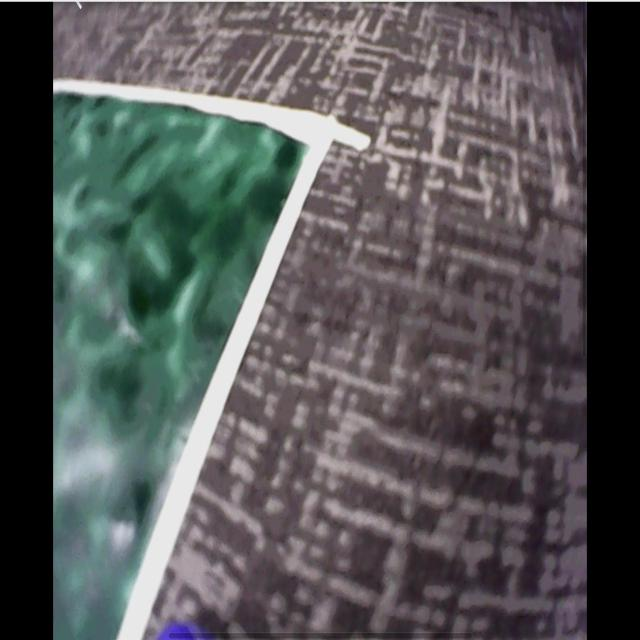ball: (157, 621, 219, 640)
